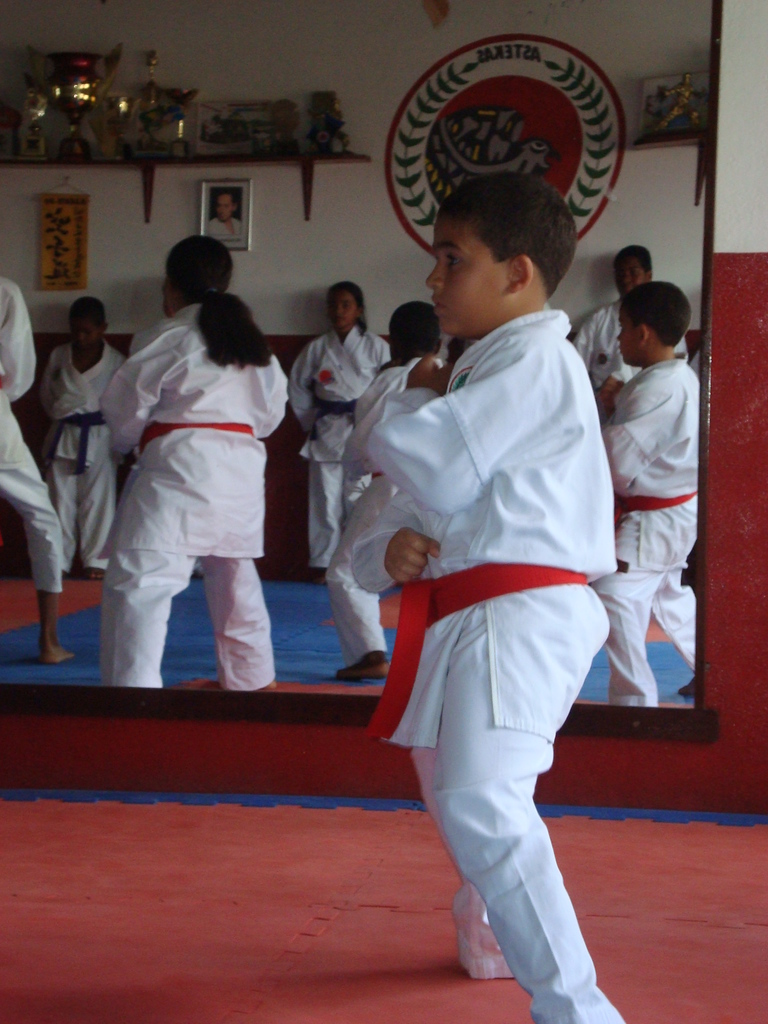Person: (0, 240, 702, 711)
